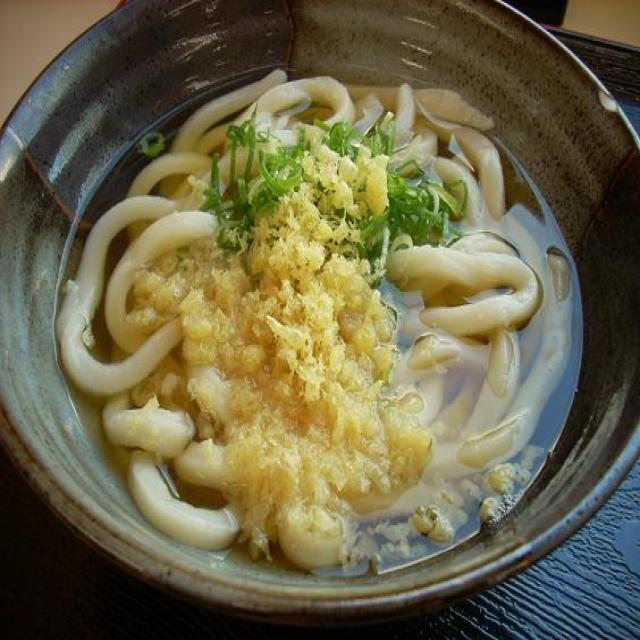面条主食: (37, 45, 610, 604)
